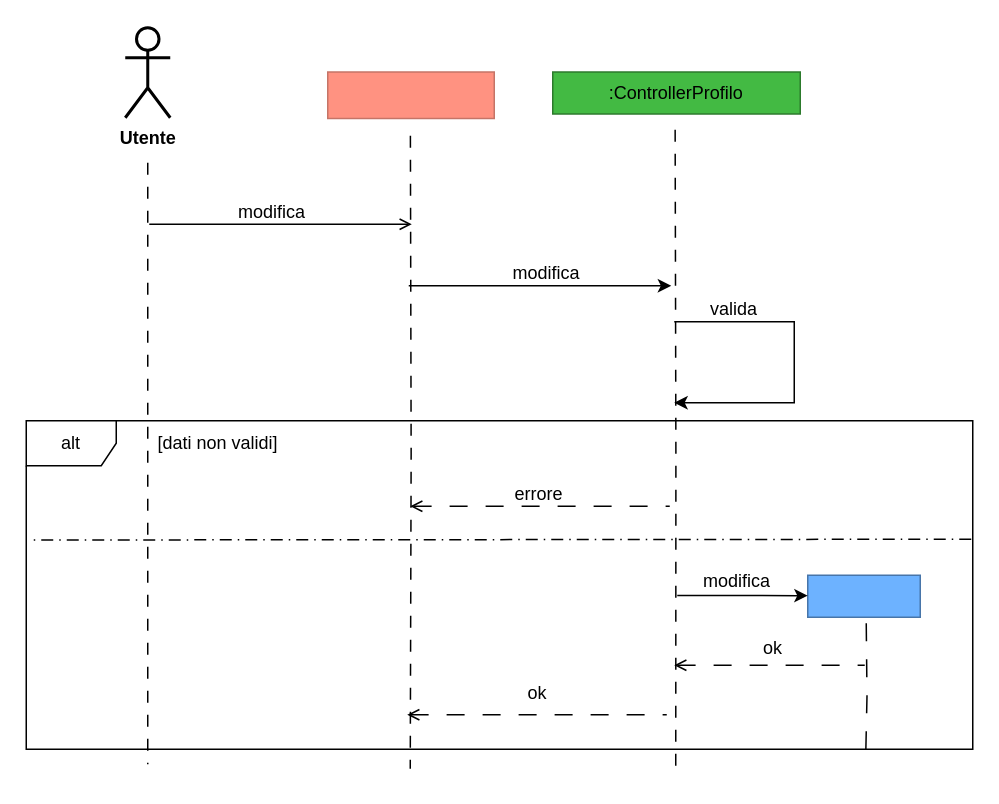
This 999x804 diagram has some shape labels left out. The shapes that lost their labels are listed below. From the top down, each one's box as (x1, y1, x2, y2) in pixels, then its label:
(326, 70, 494, 118): :ViewModificaProfilo
(806, 574, 920, 617): :Utente
